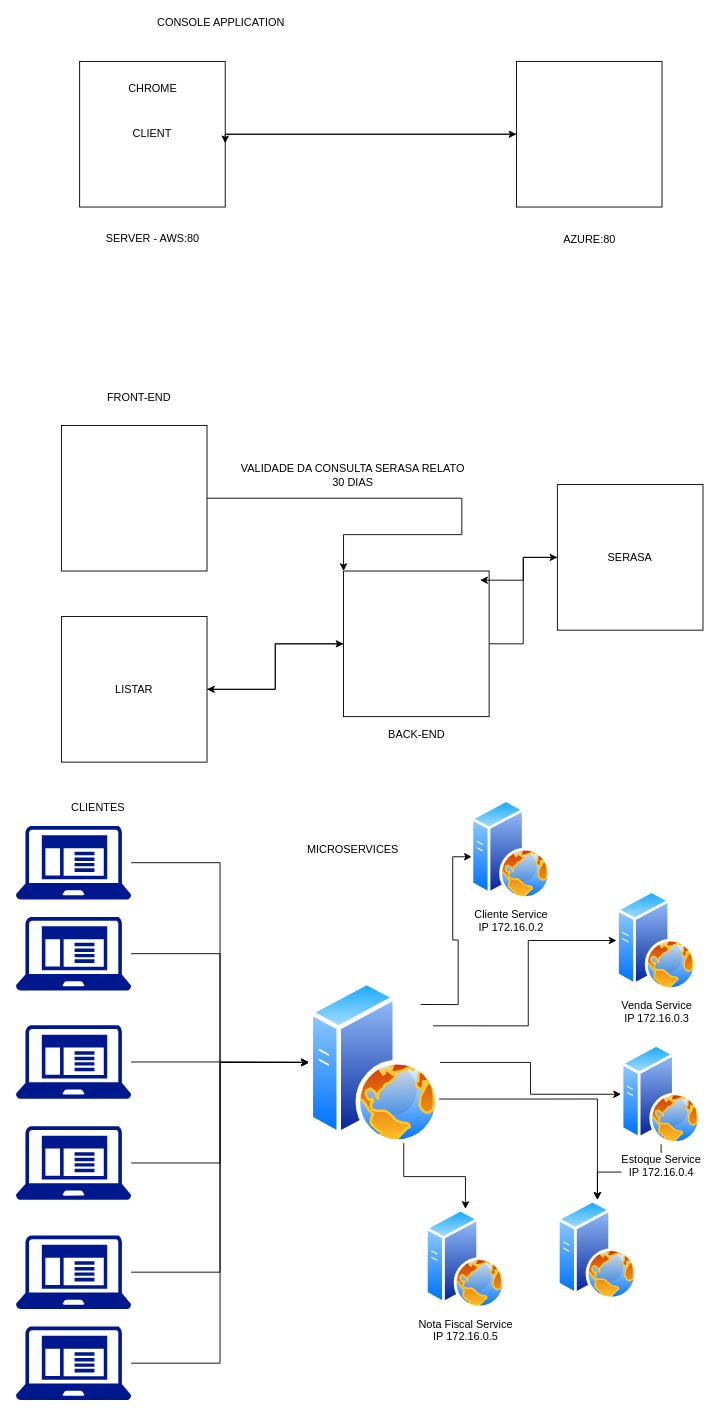
Image size: 719x1415. Some labels were removed from this diagram. Here are the shapes that lost their labels. From the top down, the centre of each, then its label:
At (589,134): "SERVER".
At (134,498): "BOTAO CONSULTAR".
At (374,1062): "API GATEWAY IP 172.16.0.1".
At (597,1249): "Gerador De Relatorio Service IP 172.16.0.4".
